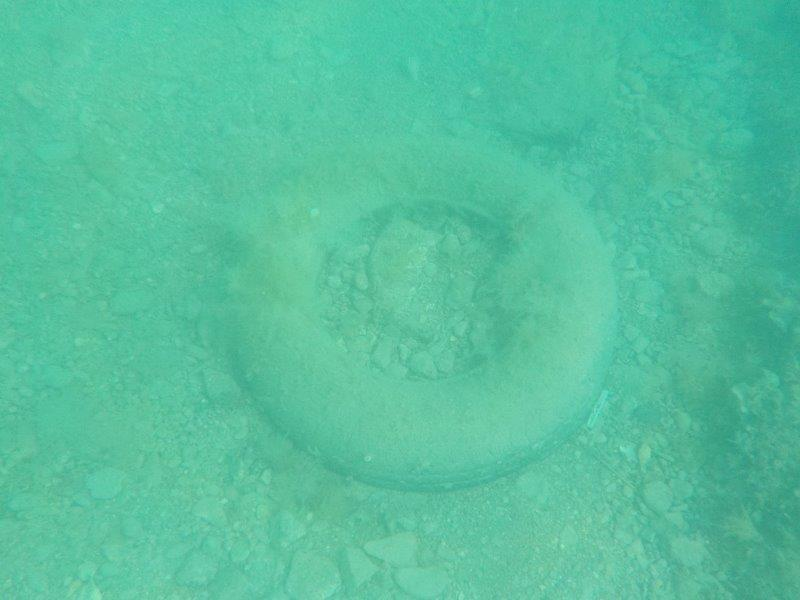tire: (217, 124, 630, 496)
